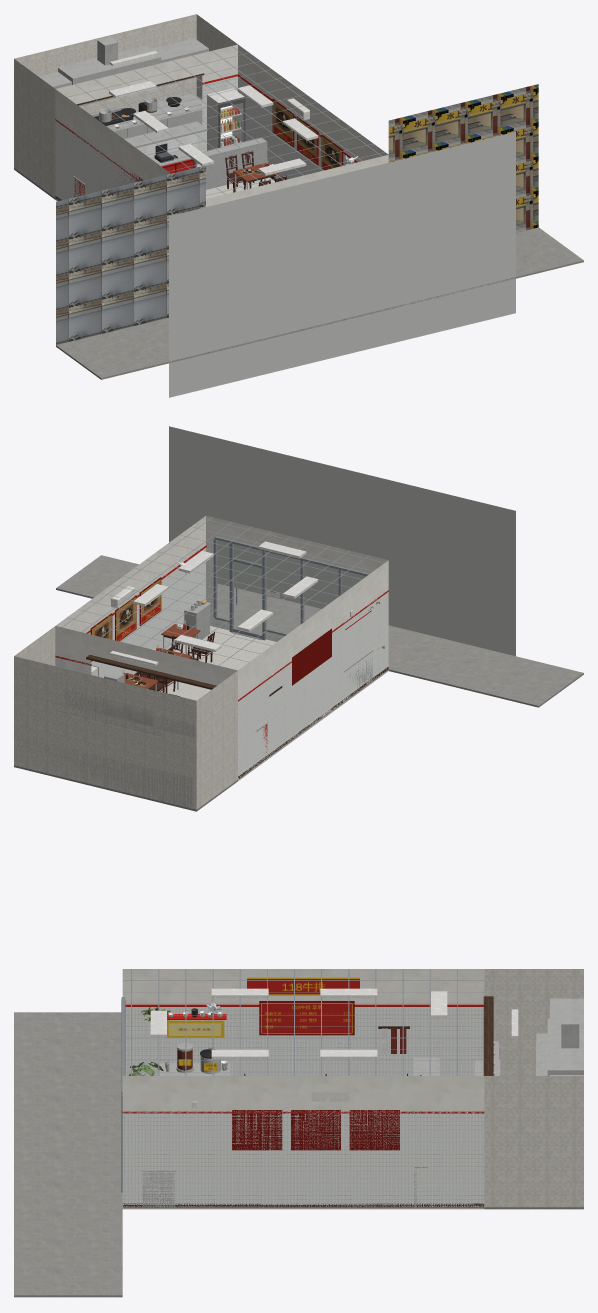
The model's file is l118_dian.glb.
The picture shows the model from 3 angles, top to bottom: view 1: azimuth 30°, elevation 25°; view 2: azimuth 150°, elevation 25°; view 3: azimuth 270°, elevation 25°; orthographic projection. The views are drawn at different scales.
Parts seen in each view (by area): view 1: WALL_S_view, WALL_W_nb_view, WALL_N_kitchen_tile_w, WALL_E_nb_view, l118_dian_paving, WALL_N_ksteel_cc0, CEIL_l118_dian_ceilgrid, WALL_N_wall, WALL_E_wall, WALL_W_wain, WALL_W_wall, l118_dian_steel (+9 smaller); view 2: WALL_S_view, WALL_N_kitchen_tile_w, l118_dian_paving, WALL_W_wain, WALL_N_ksteel_cc0, WALL_S_glass, WALL_W_wall, CEIL_l118_dian_ceilgrid, WALL_N_wall, WALL_E_wall, WALL_E_wain, WALL_S_wall (+12 smaller); view 3: WALL_E_wain, l118_dian_paving, WALL_N_kitchen_tile_w, WALL_W_wain, WALL_E_wall, WALL_W_wall, WALL_E_trim_red_d, WALL_W_print, CEIL_l118_dian_ceilgrid, WALL_N_ksteel_cc0, CEIL_l118_dian_vc, l118_dian_steel (+6 smaller).
Boxes of the visible parts, <box> form: WALL_S_view: <box>169,131,515,397</box>; WALL_W_nb_view: <box>56,165,205,344</box>; WALL_N_kitchen_tile_w: <box>14,14,237,197</box>; WALL_E_nb_view: <box>388,84,538,232</box>; l118_dian_paving: <box>56,227,583,379</box>; WALL_N_ksteel_cc0: <box>39,37,208,147</box>; CEIL_l118_dian_ceilgrid: <box>67,46,384,195</box>; WALL_N_wall: <box>56,44,237,104</box>; WALL_E_wall: <box>238,44,388,161</box>; WALL_W_wain: <box>55,120,138,200</box>; WALL_W_wall: <box>55,89,170,180</box>; l118_dian_steel: <box>73,97,350,191</box>; WALL_S_view: <box>169,426,515,656</box>; WALL_N_kitchen_tile_w: <box>14,626,237,809</box>; l118_dian_paving: <box>56,555,583,707</box>; WALL_W_wain: <box>238,592,388,779</box>; WALL_N_ksteel_cc0: <box>18,671,194,808</box>; WALL_S_glass: <box>217,540,365,633</box>; WALL_W_wall: <box>238,560,388,699</box>; CEIL_l118_dian_ceilgrid: <box>62,517,384,665</box>; WALL_N_wall: <box>55,626,237,685</box>; WALL_E_wall: <box>56,516,205,633</box>; WALL_E_wain: <box>88,548,205,677</box>; WALL_S_wall: <box>206,515,388,573</box>; WALL_E_wain: <box>122,1113,484,1206</box>; l118_dian_paving: <box>14,1012,122,1297</box>; WALL_N_kitchen_tile_w: <box>484,969,583,1207</box>; WALL_W_wain: <box>125,1007,483,1075</box>; WALL_E_wall: <box>122,1076,484,1112</box>; WALL_W_wall: <box>122,969,484,1004</box>; WALL_E_trim_red_d: <box>232,1110,399,1150</box>; WALL_W_print: <box>168,977,359,1035</box>; CEIL_l118_dian_ceilgrid: <box>122,969,484,1075</box>; WALL_N_ksteel_cc0: <box>474,998,583,1075</box>; CEIL_l118_dian_vc: <box>150,988,447,1059</box>; l118_dian_steel: <box>142,1002,439,1207</box>.
Bounding box in the file's own units: 14.8 × 5.32 × 12.6.
Materials: 40 (34 with a texture image).
